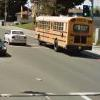Bus: (30, 13, 94, 53)
